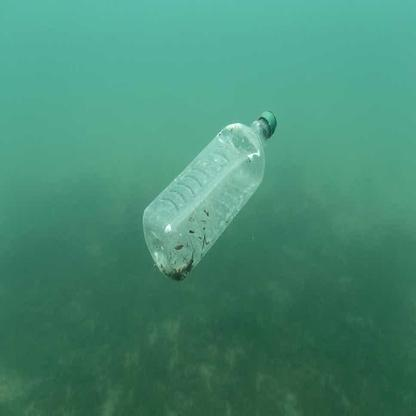plastic bottle: (143, 110, 278, 279)
